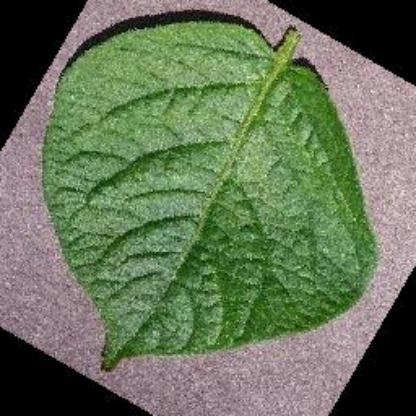Healthy-plant: (42, 10, 382, 380)
